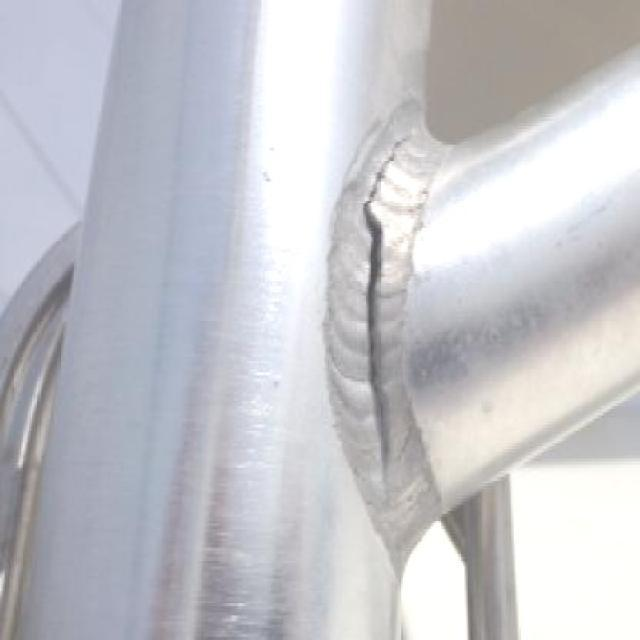crack: (364, 212, 390, 488), (364, 137, 404, 208)
